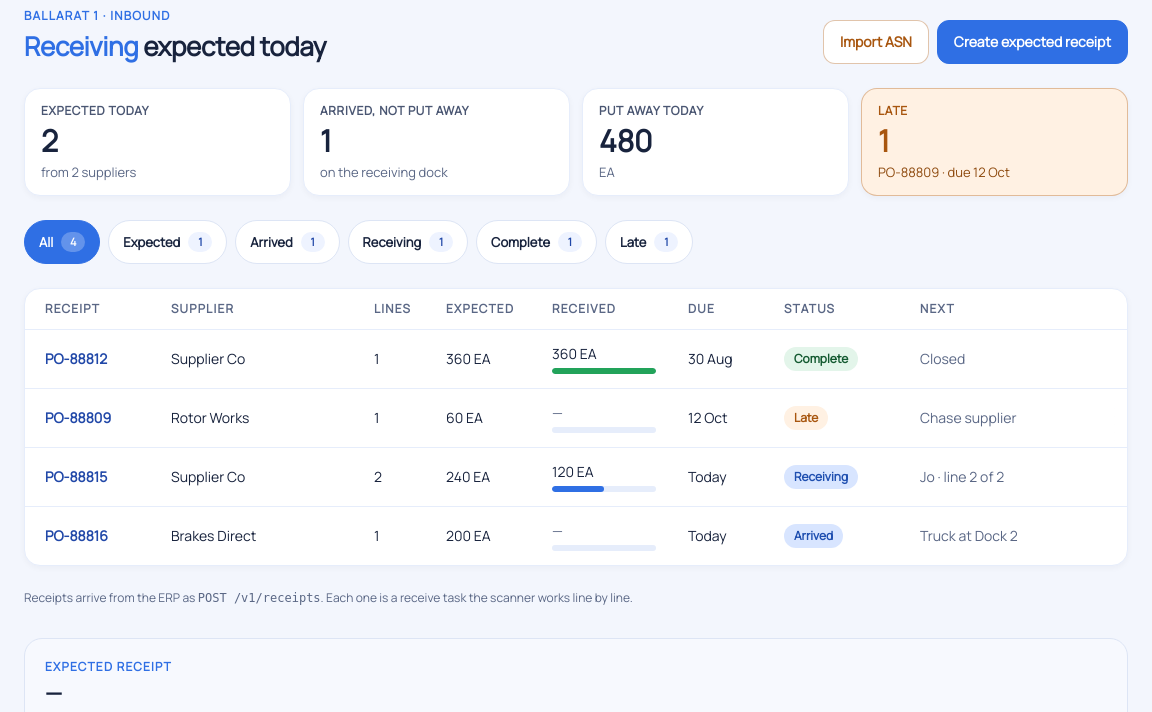
Receiving › keeps the print button off until something has been put away
Click the text "PO-88816" at (76, 536), box left=45, top=526, right=108, bottom=545
(page scrolled)
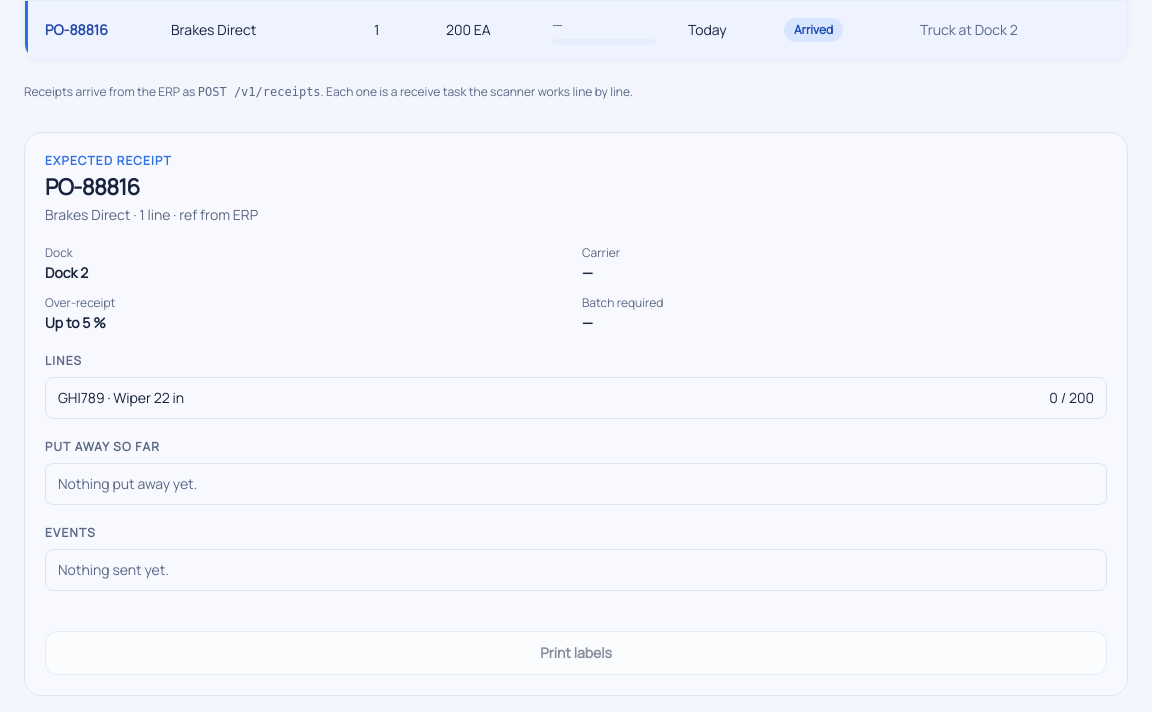
Result: the text "Nothing put away yet." is shown at left=58, top=474, right=197, bottom=493
Result: the button "Print labels" is disabled at left=45, top=631, right=1107, bottom=675
